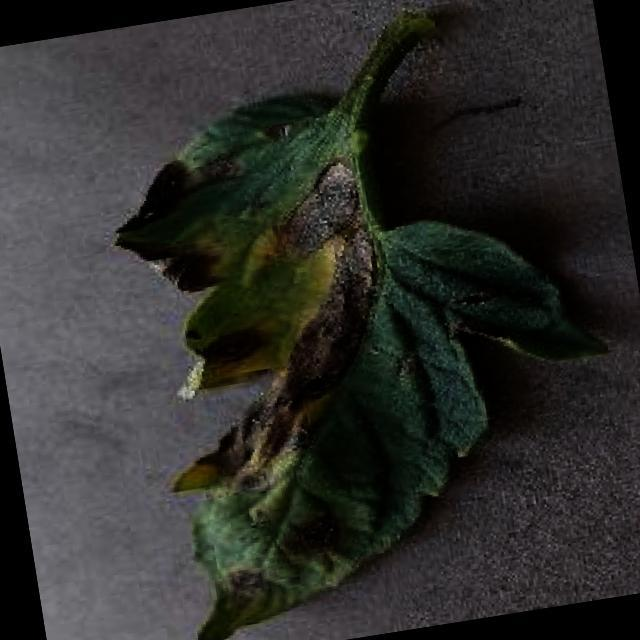Tomato Early blight leaf: (98, 56, 640, 640)
